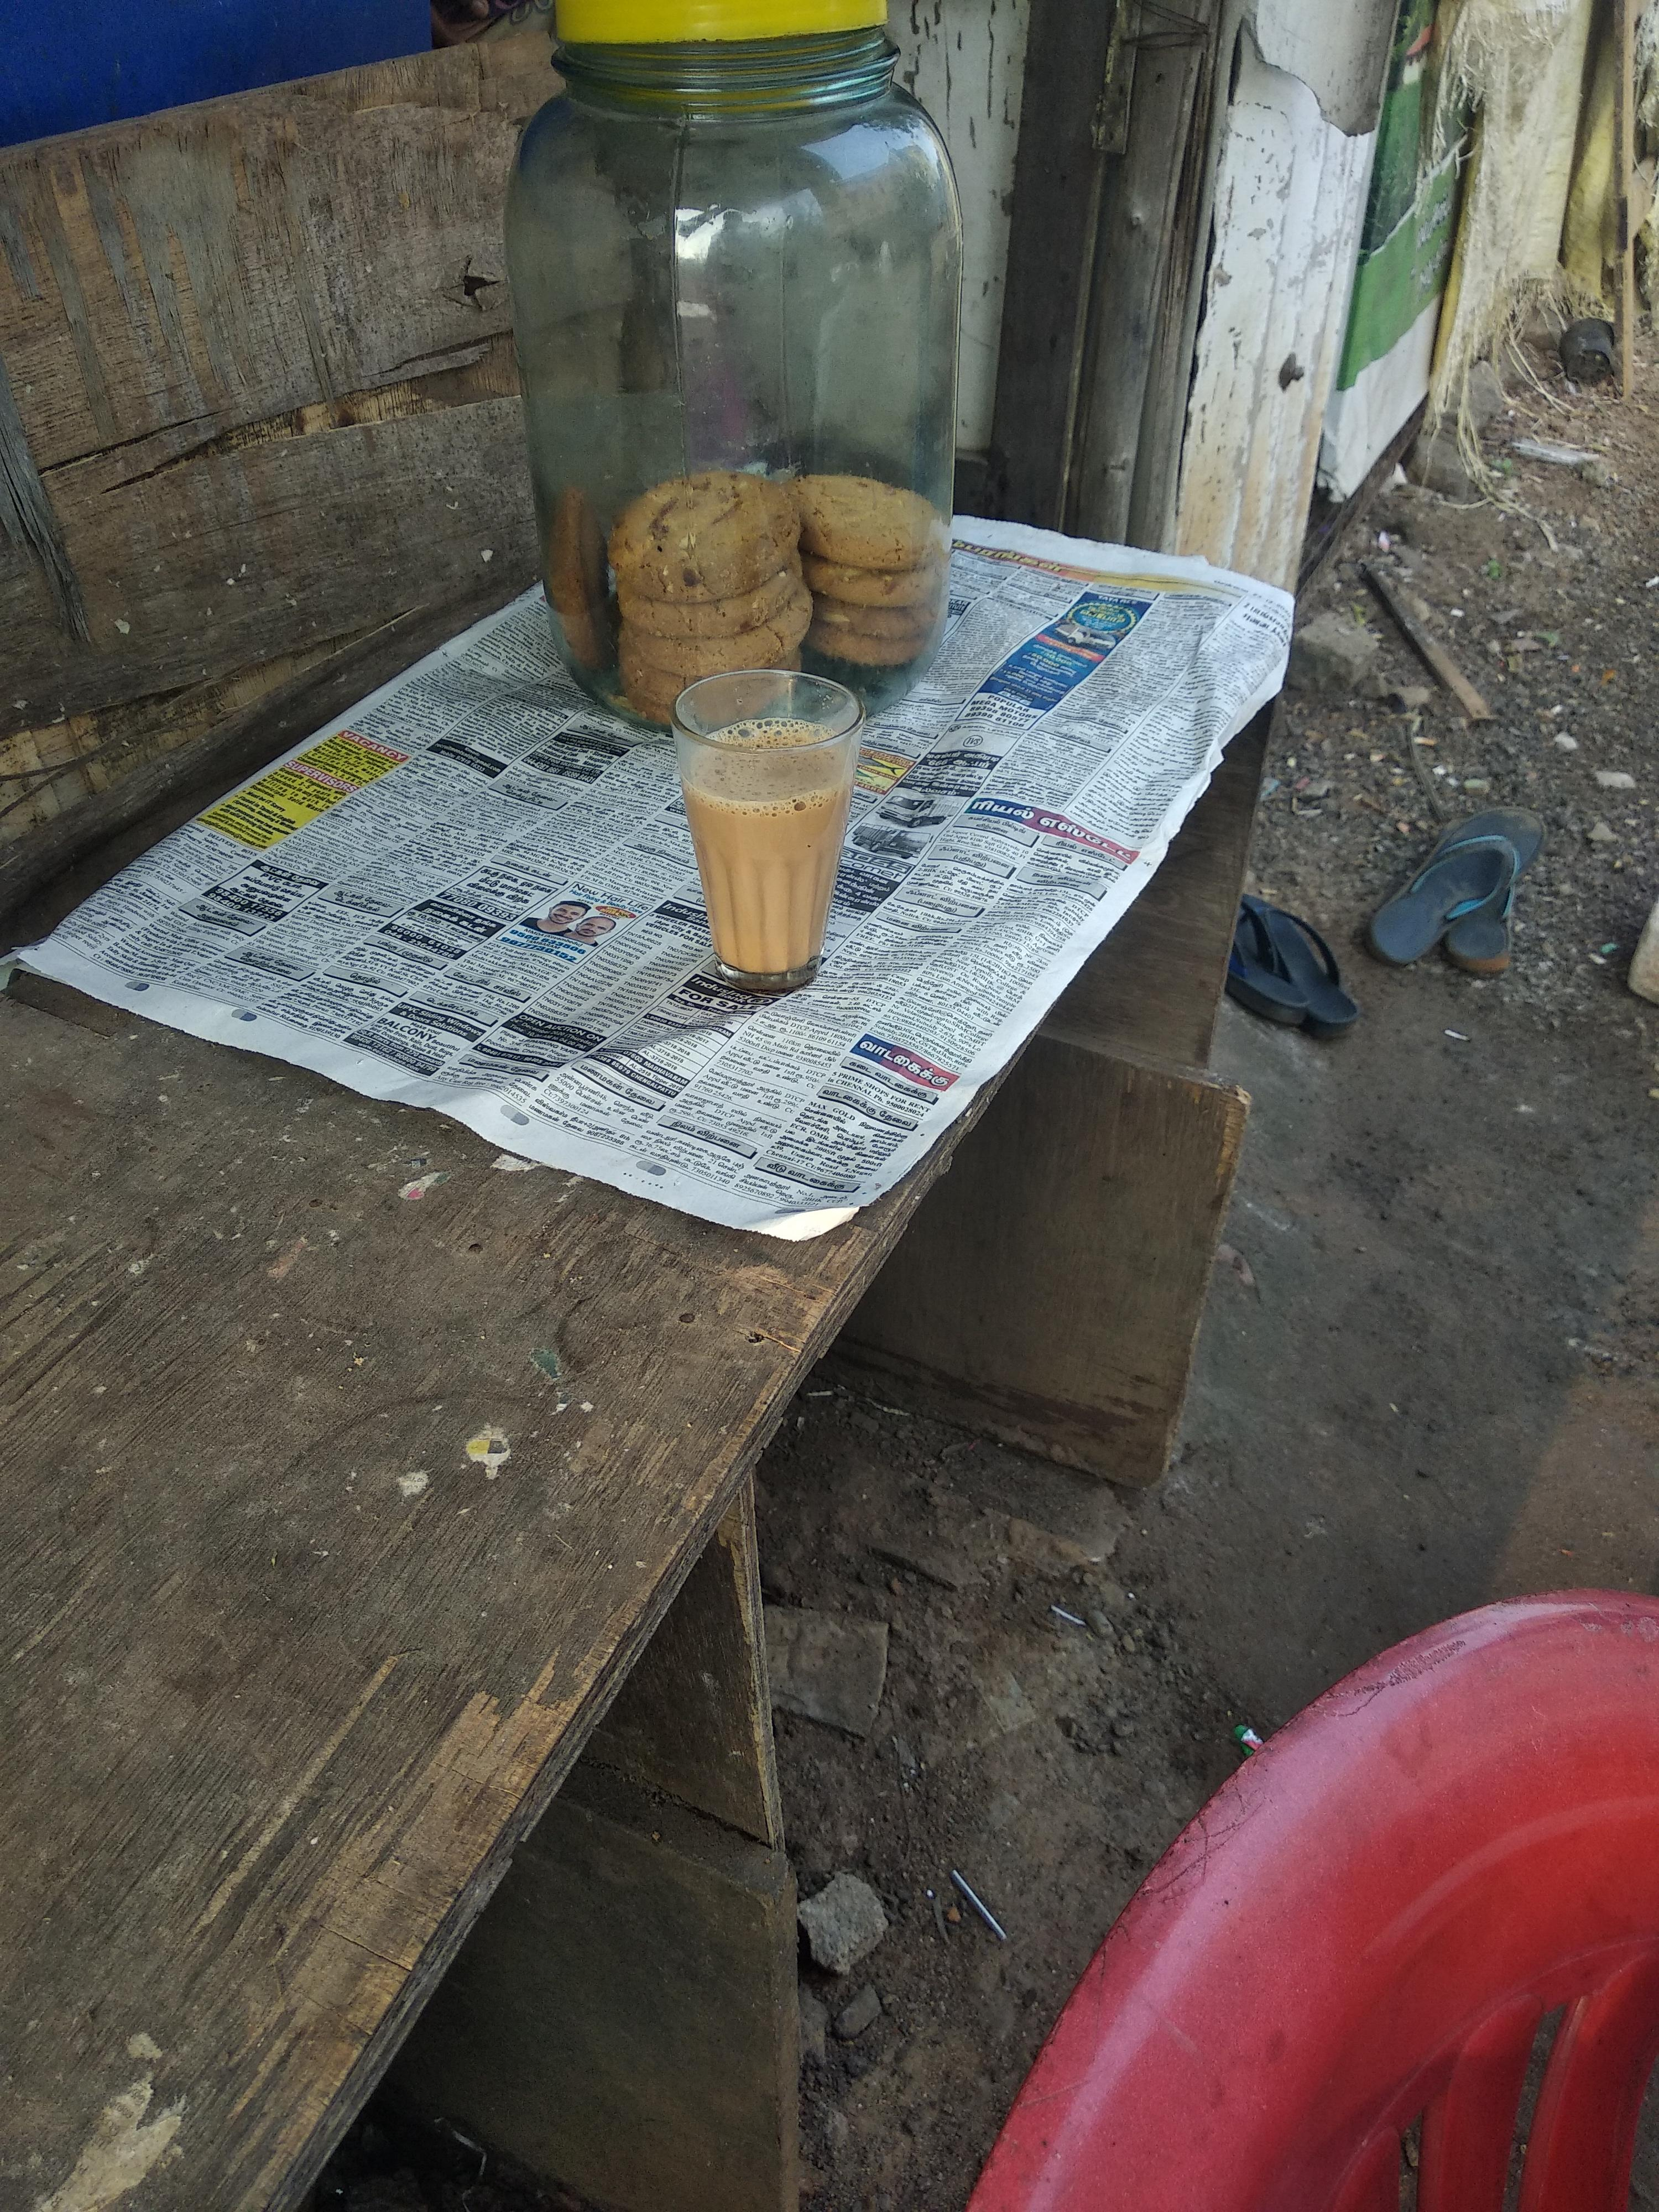trash: (10, 474, 1391, 1266)
